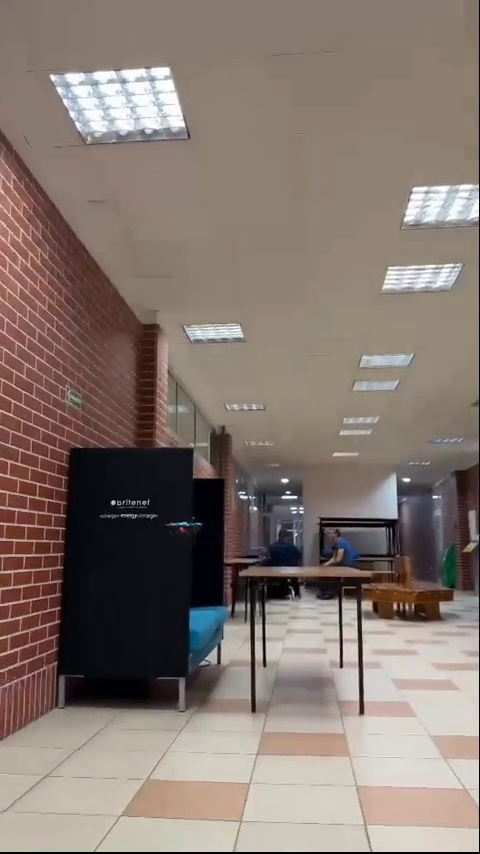drone: (164, 522, 206, 537)
no vest: (273, 528, 305, 567), (322, 528, 352, 563)
